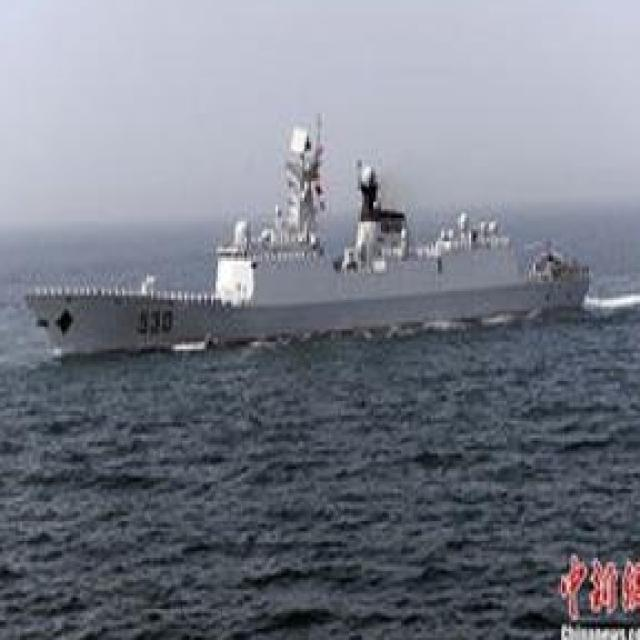navalvessels: (15, 105, 608, 352)
